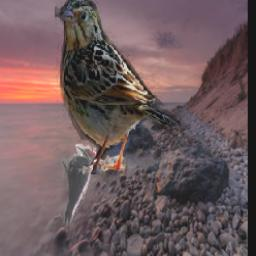Sparrow: (56, 0, 183, 176)
Woodpecker: (61, 145, 96, 224)
